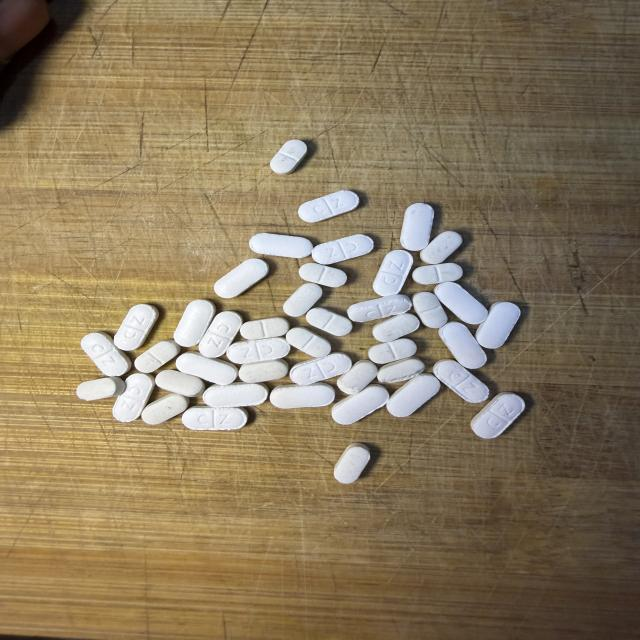pill: (471, 393, 524, 438), (434, 360, 489, 403), (387, 374, 440, 417), (332, 385, 388, 425), (434, 283, 488, 324), (81, 332, 131, 376), (439, 322, 486, 368), (214, 259, 268, 298), (475, 302, 520, 348), (199, 311, 243, 357), (114, 304, 158, 350), (290, 352, 351, 385), (113, 374, 154, 422), (176, 352, 237, 384), (298, 191, 359, 222), (174, 300, 215, 346), (373, 250, 413, 296), (312, 235, 373, 265), (348, 295, 411, 322), (227, 338, 290, 364), (270, 383, 334, 408), (134, 339, 180, 373), (203, 383, 268, 407), (250, 233, 312, 258), (401, 204, 434, 250), (182, 407, 248, 430), (334, 443, 370, 483), (141, 394, 188, 424), (337, 360, 377, 394), (421, 231, 462, 264), (286, 327, 331, 357), (283, 283, 322, 317), (156, 370, 205, 397), (270, 140, 307, 175), (306, 308, 352, 336), (373, 314, 419, 342), (368, 338, 416, 364), (413, 292, 447, 328), (378, 357, 424, 383), (299, 263, 347, 287), (239, 359, 288, 382), (77, 377, 125, 400), (412, 263, 462, 285), (240, 317, 289, 339)
